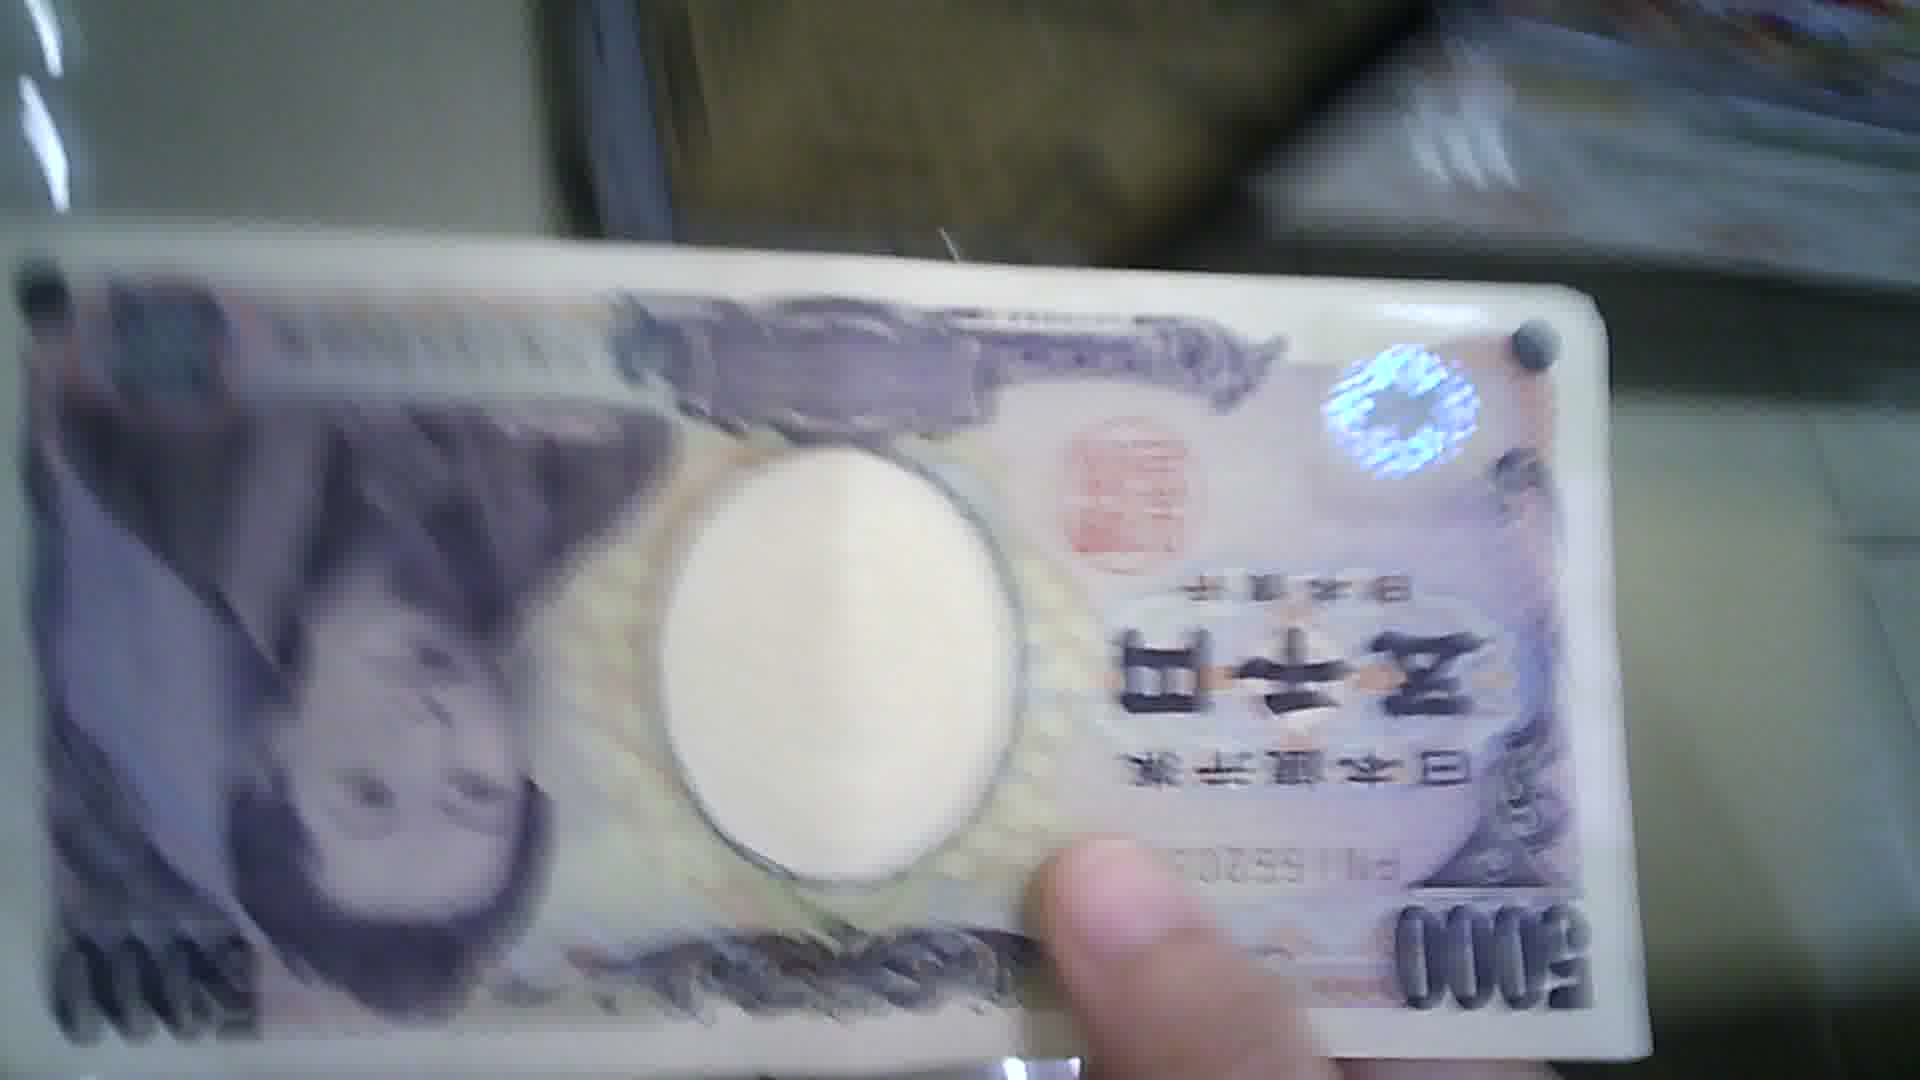5,000 Yen: (11, 193, 1656, 1072)
